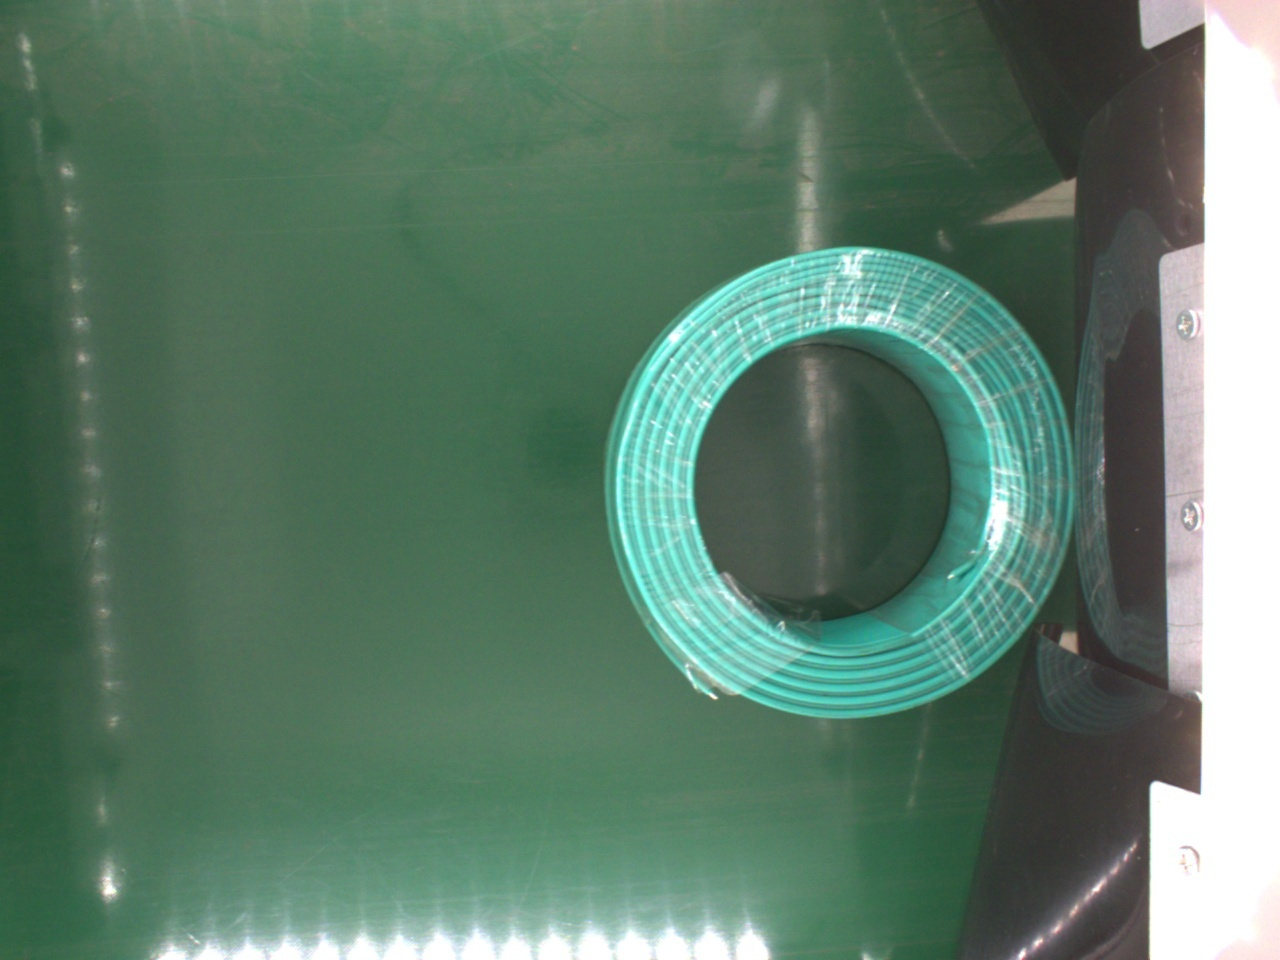green: (599, 240, 1078, 724)
